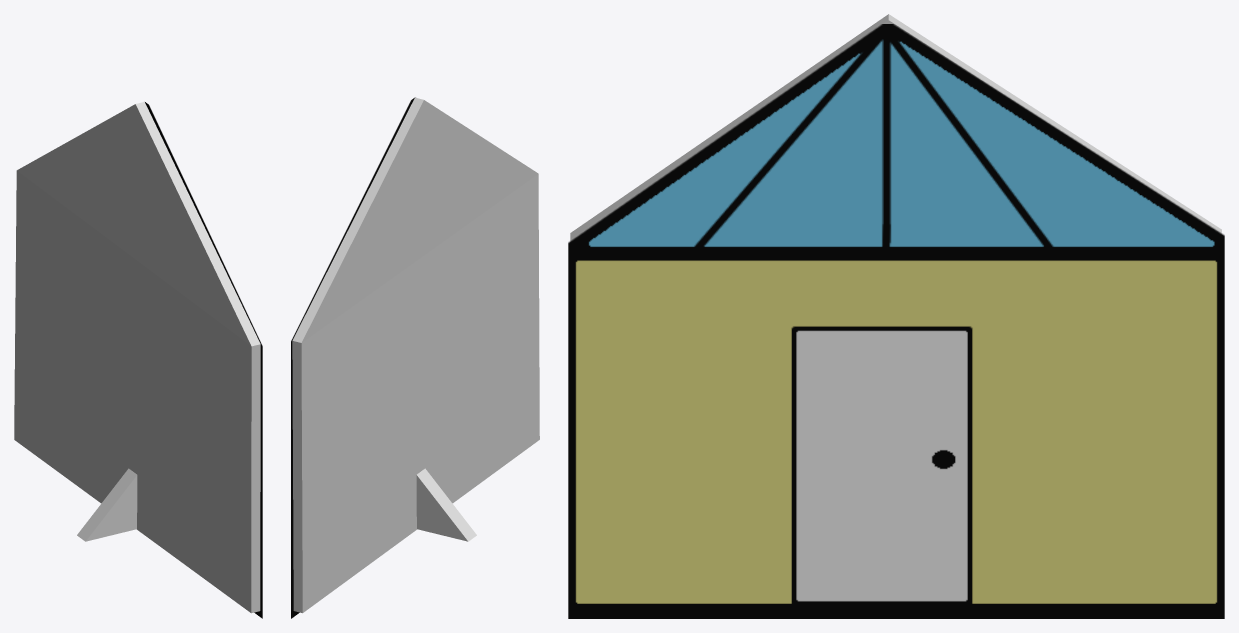
File: house.glb
3 renders of one model, left to right at view 1: azimuth 30°, elevation 25°; view 2: azimuth 150°, elevation 25°; view 3: azimuth 270°, elevation 25°, orthographic. The views are drawn at different scales.
Parts seen in each view (by area): view 1: Cube, house; view 2: Cube, house; view 3: house, Cube.
Boxes of the visible parts, x1,y1,x2,y2 form: Cube: [14, 102, 260, 613]; house: [145, 102, 262, 618]; Cube: [292, 97, 539, 613]; house: [291, 97, 415, 618]; house: [568, 24, 1224, 618]; Cube: [570, 14, 1221, 241].
Bounding box in the file's own units: 0.1525 × 1 × 1.
Materials: 1 (1 with a texture image).
